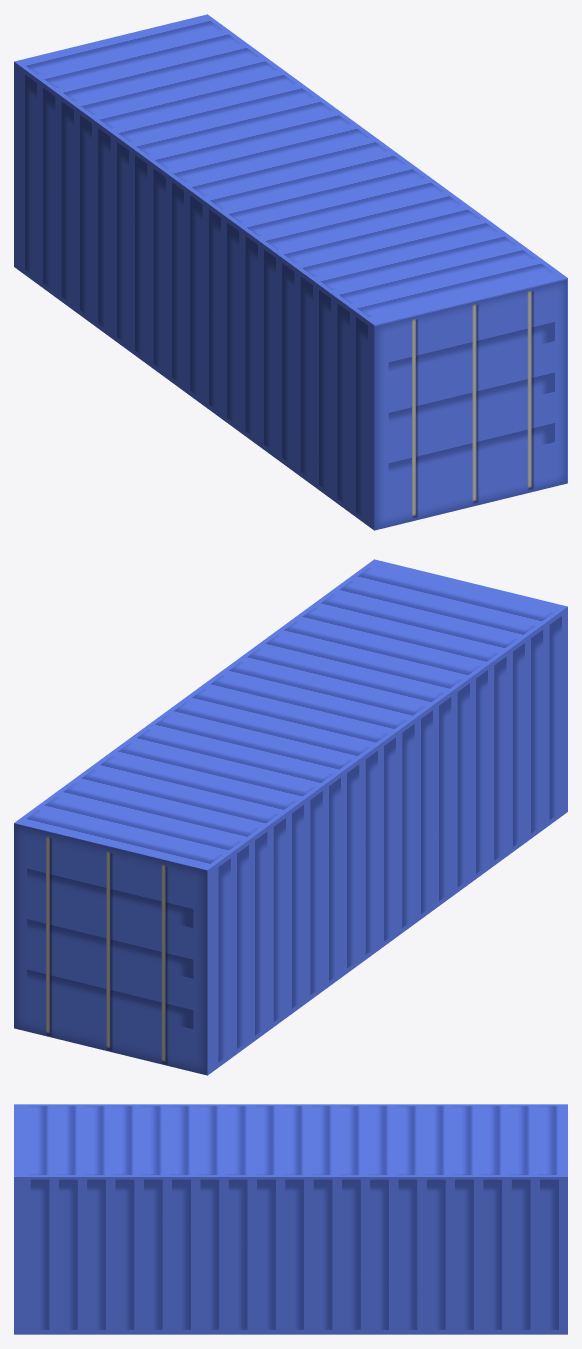
The model's file is Container2.fbx.
The picture shows the model from 3 angles, top to bottom: view 1: azimuth 30°, elevation 25°; view 2: azimuth 150°, elevation 25°; view 3: azimuth 270°, elevation 25°; orthographic projection. The views are drawn at different scales.
Parts seen in each view (by area): view 1: 立方体.011; view 2: 立方体.011; view 3: 立方体.011.
Boxes of the visible parts, x1,y1,x2,y2 form: 立方体.011: [14, 14, 567, 530]; 立方体.011: [14, 559, 567, 1075]; 立方体.011: [14, 1104, 567, 1334].
Bounding box in the file's own units: 844 × 862 × 2719.
1 material, 1 textured.
